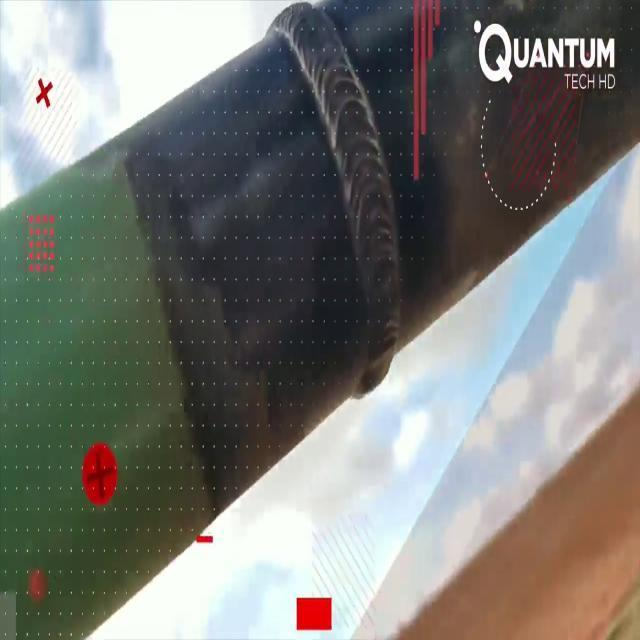Good Welding: (271, 0, 403, 417)
